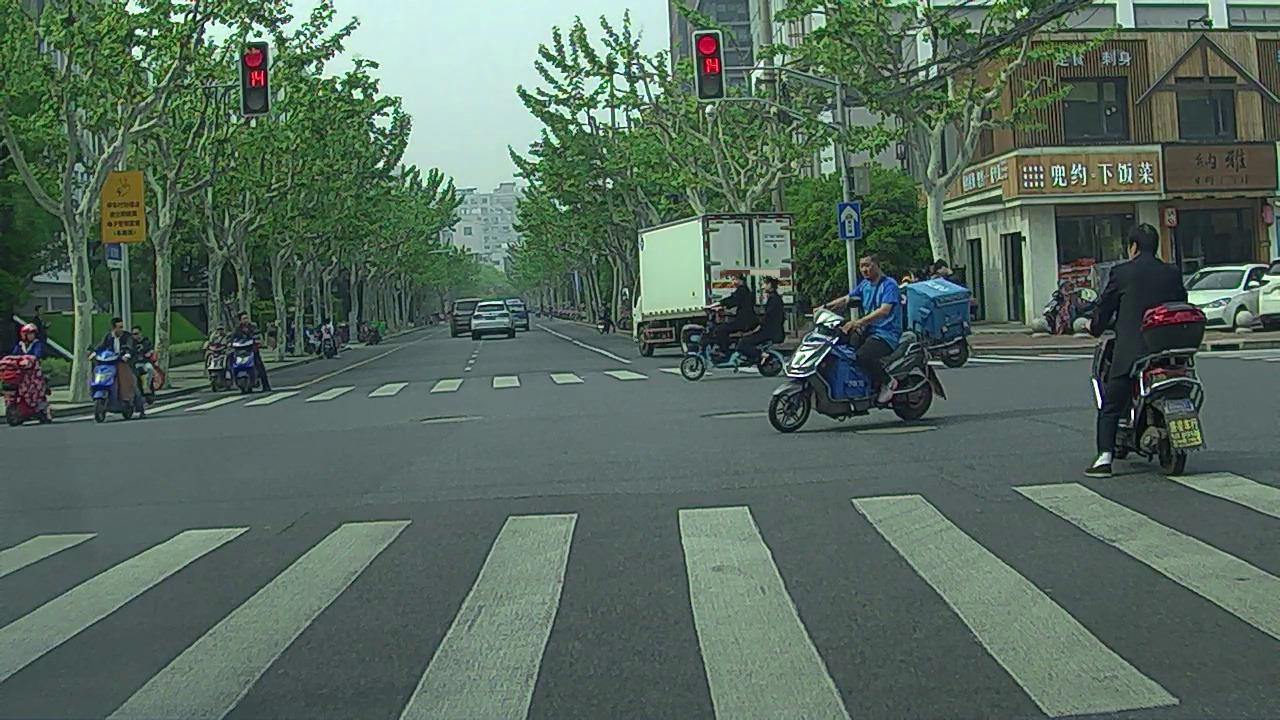traffic_light: (243, 43, 270, 113), (697, 33, 723, 103)
